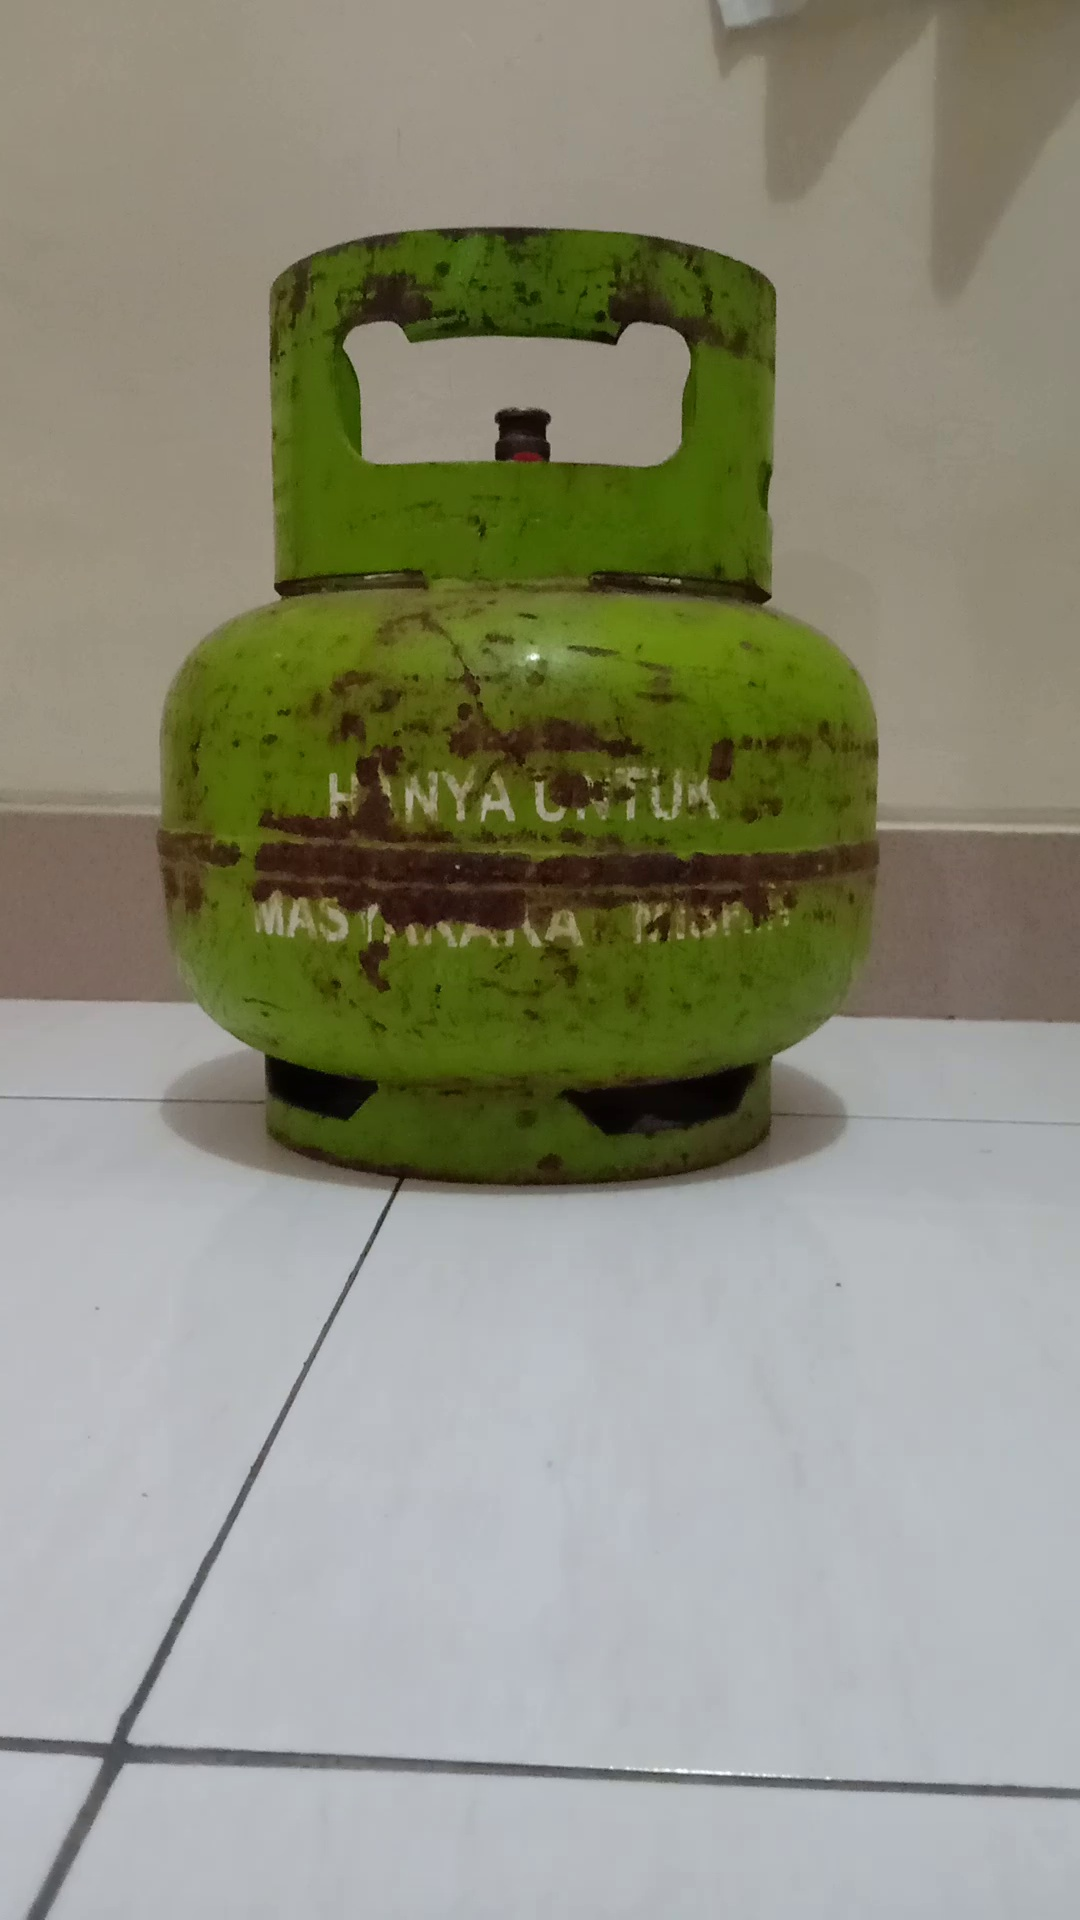gas_ijo: (160, 225, 884, 1196)
